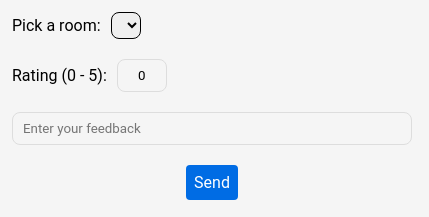
<AddReviewForm /> › Rating input works fine
Replace the text in the number field with test id "review-rating-input" with "3.5". click: (142, 76)
box: [117,59,167,92]
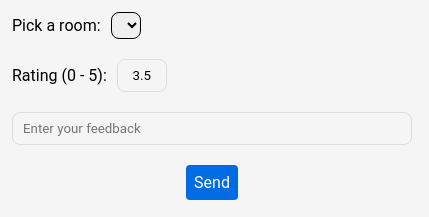
Result: the number field with test id "review-rating-input" holds "3.5"
Replace the text in the number field with test id "review-rating-input" with "-1". click: (142, 76)
box: [117,59,167,92]
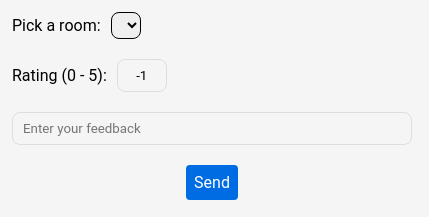
Result: the number field with test id "review-rating-input" holds "-1"
Replace the text in the number field with test id "review-rating-input" with "6". click: (142, 76)
box: [117,59,167,92]
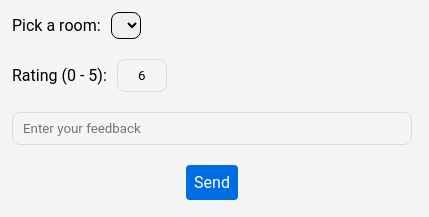
Result: the number field with test id "review-rating-input" holds "6" at [117,59,167,92]
